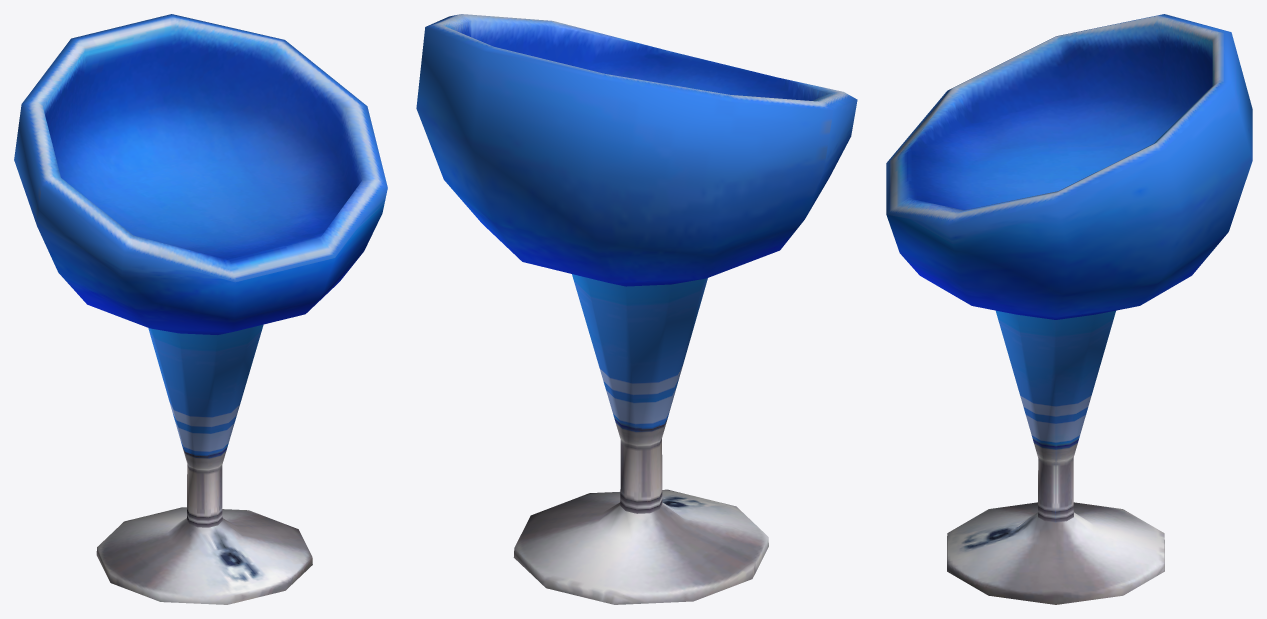
Rendered from furni_0200713.FBX.
3 views of the same model, side by side, from view 1: azimuth 30°, elevation 25°; view 2: azimuth 150°, elevation 25°; view 3: azimuth 270°, elevation 25° (orthographic). The views are drawn at different scales.
Parts seen in each view (by area): view 1: furni_0200713; view 2: furni_0200713; view 3: furni_0200713.
Boxes of the visible parts, x1,y1,x2,y2 form: furni_0200713: [14, 14, 387, 604]; furni_0200713: [416, 14, 857, 604]; furni_0200713: [886, 14, 1252, 604].
Size of the model in its own units: 77.23 by 107 by 71.4.
Materials: 1 (1 with a texture image).
